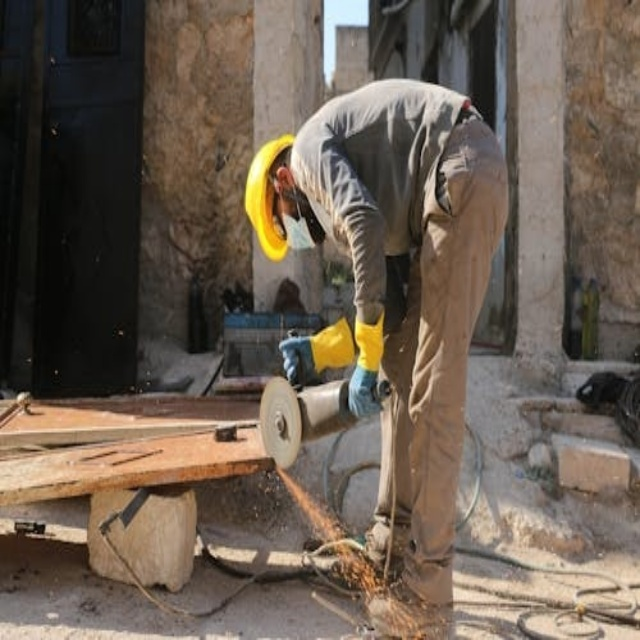Gafas: (265, 173, 287, 252)
Guantes: (276, 306, 357, 384), (348, 304, 389, 421)
Mascara: (281, 202, 316, 251)
